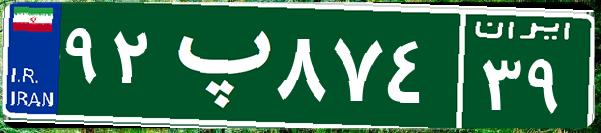2: (110, 28, 158, 105)
3: (475, 38, 525, 113)
4: (385, 28, 445, 110)
7: (330, 28, 385, 110)
8: (273, 28, 330, 110)
9: (57, 26, 110, 107), (525, 38, 570, 115)
پ: (158, 15, 273, 115)
